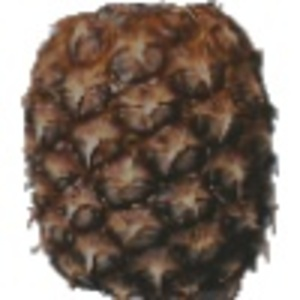abacaxi: (17, 3, 284, 293)
